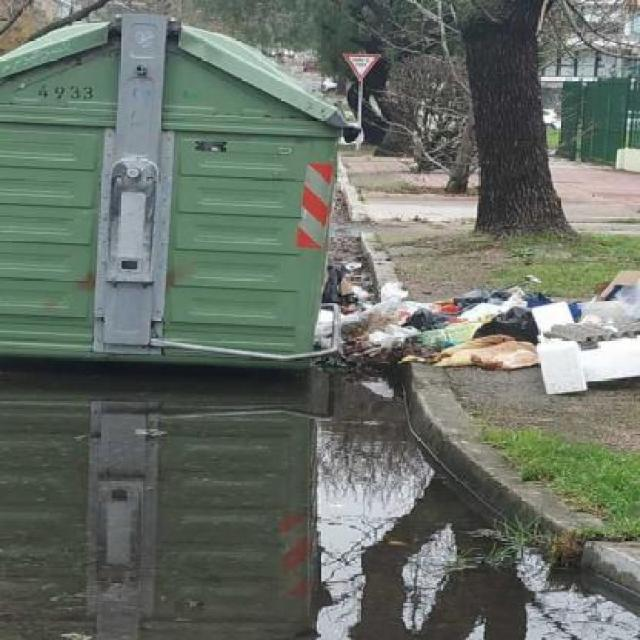garbage: (331, 262, 640, 390)
